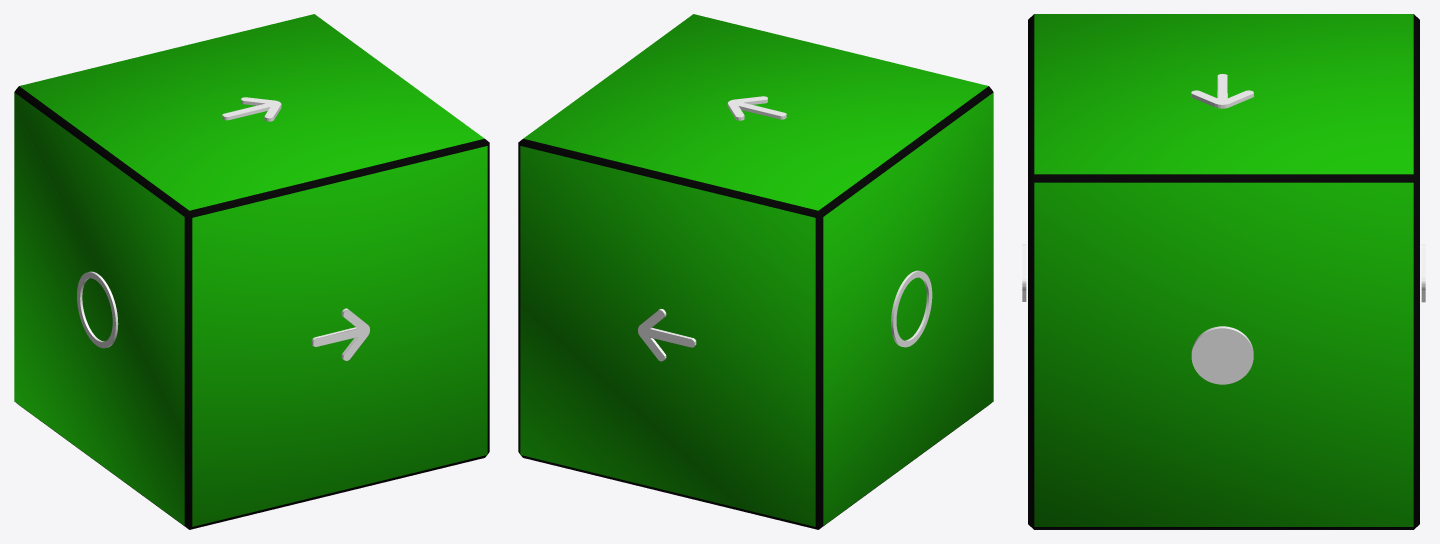
The model's file is BigBoxTapFlowBox_3_3_3_Line_test.fbx.
3 renders of one model, left to right at view 1: azimuth 30°, elevation 25°; view 2: azimuth 150°, elevation 25°; view 3: azimuth 270°, elevation 25°, orthographic. The views are drawn at different scales.
Visible parts, largest first — view 1: BigBoxTapFlowBox_3_3_3_Line_test; view 2: BigBoxTapFlowBox_3_3_3_Line_test; view 3: BigBoxTapFlowBox_3_3_3_Line_test.
Boxes of the visible parts, x1,y1,x2,y2 form: BigBoxTapFlowBox_3_3_3_Line_test: [14, 14, 489, 529]; BigBoxTapFlowBox_3_3_3_Line_test: [518, 14, 993, 529]; BigBoxTapFlowBox_3_3_3_Line_test: [1022, 14, 1425, 529].
Bounding box in the file's own units: 3.22 × 3.22 × 3.23.
Materials: 1 (1 with a texture image).
